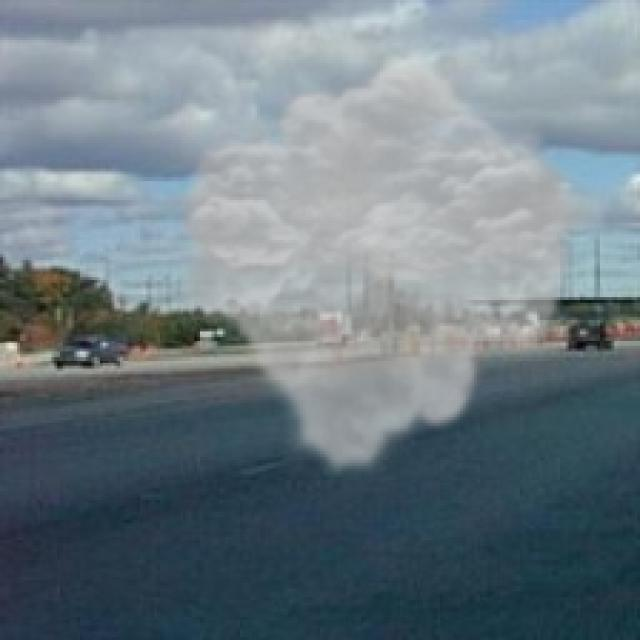Smoke: (168, 57, 586, 480)
